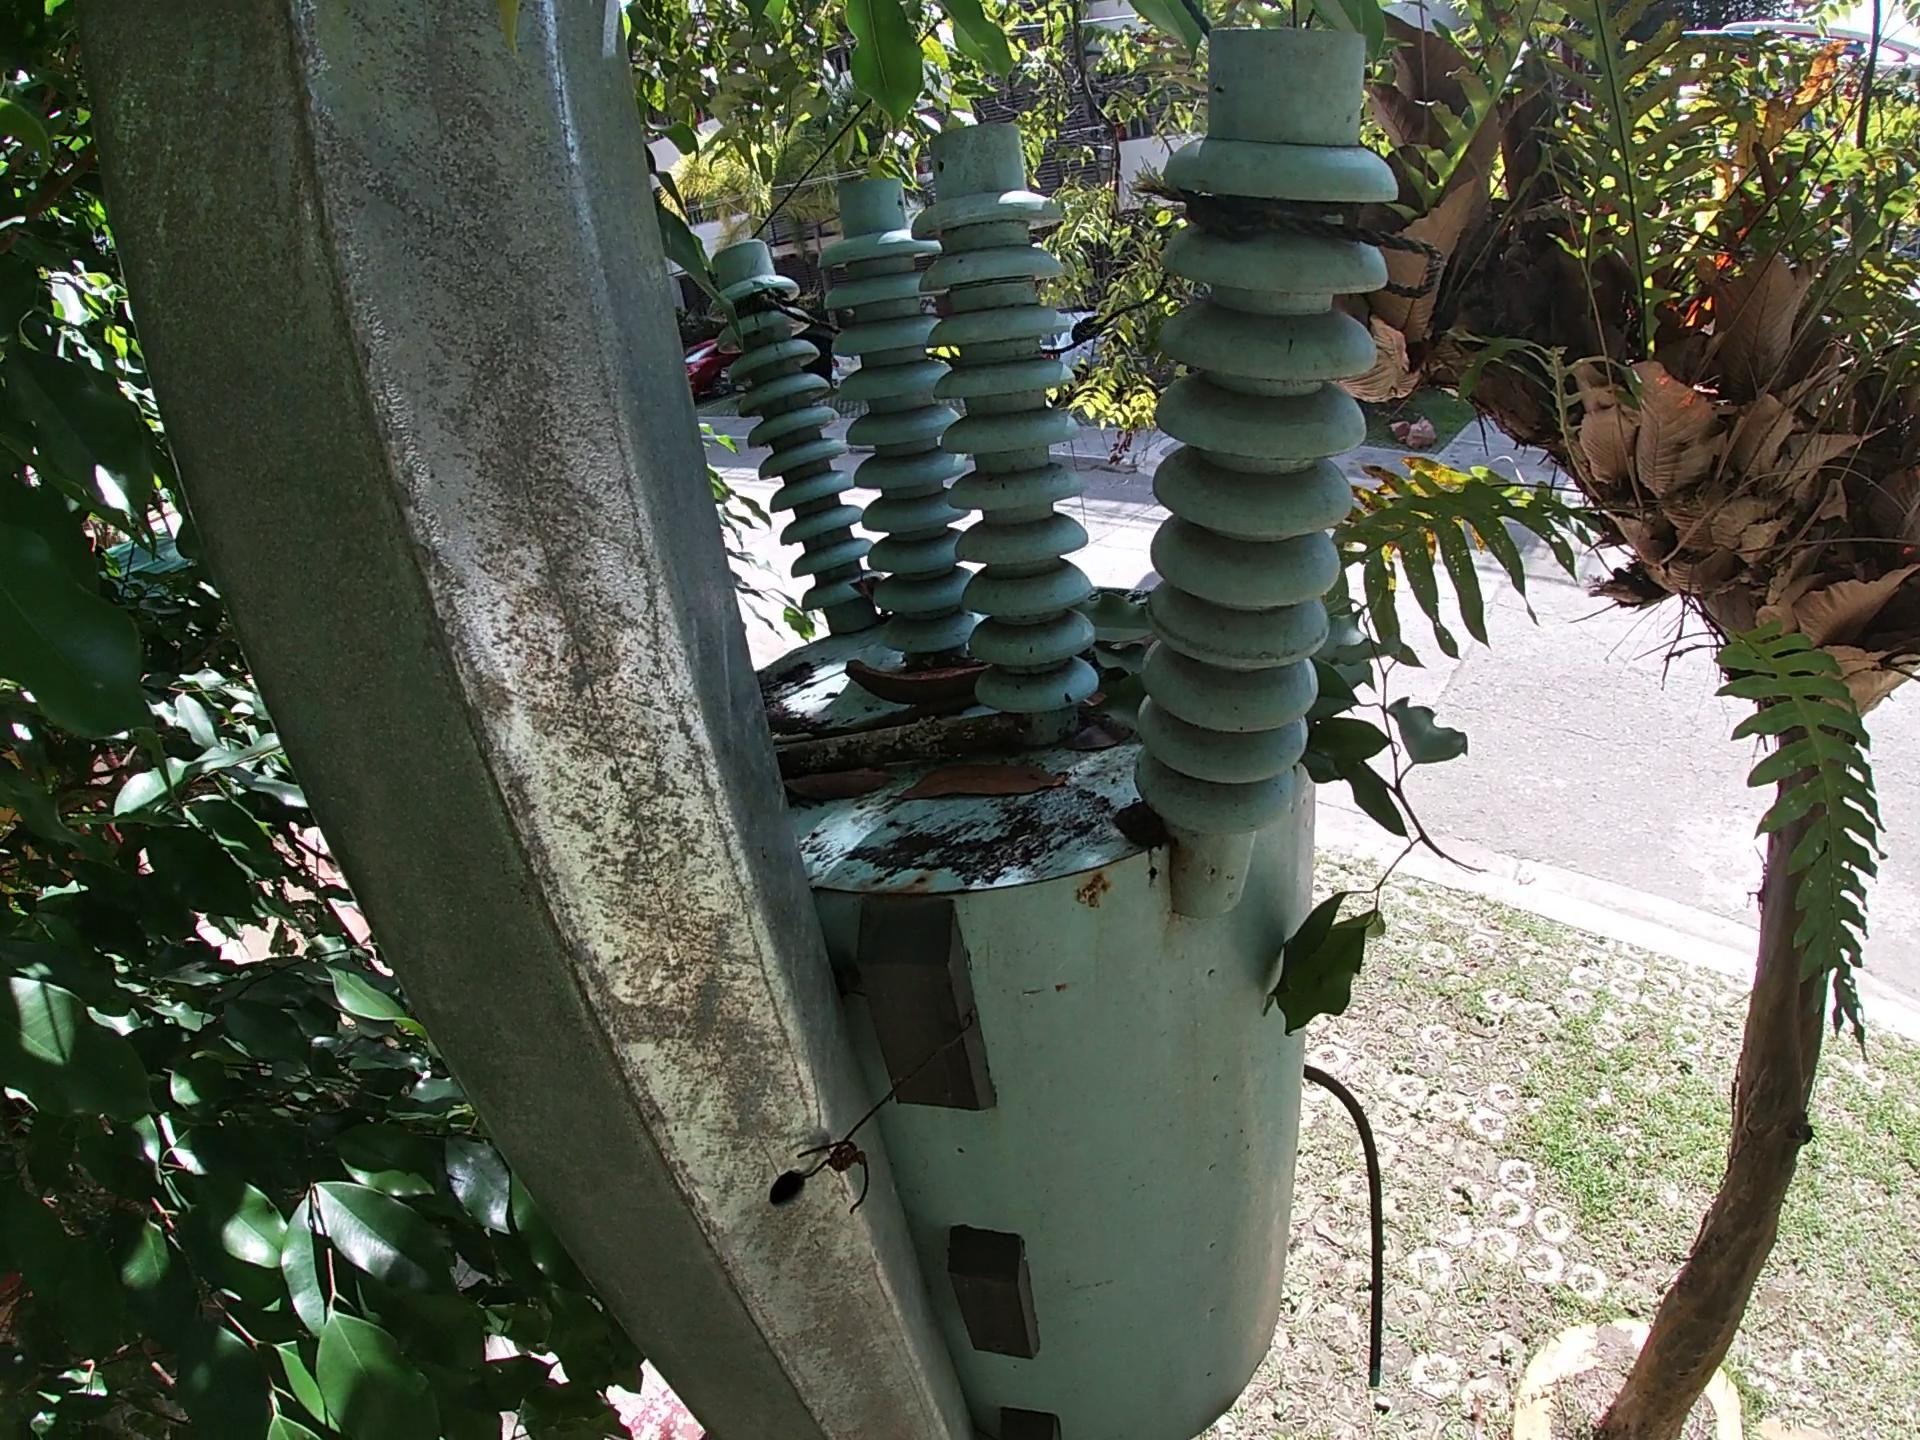branch with leaves: (1262, 567, 1469, 1057)
leaf: (1076, 563, 1176, 732), (895, 768, 1073, 809), (780, 762, 875, 806)
mahogany fruit: (835, 650, 1002, 705)
tree branch: (766, 722, 1027, 758)
